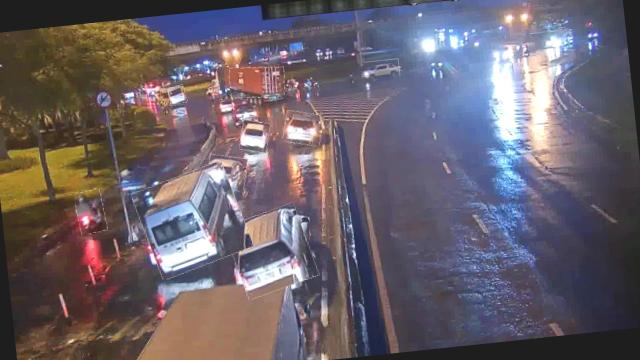Bike: (75, 189, 107, 235)
Bus: (134, 164, 250, 278), (162, 86, 187, 106)
Car: (226, 205, 316, 298), (204, 153, 248, 192), (281, 109, 324, 148), (238, 118, 272, 154), (364, 58, 399, 80), (232, 102, 259, 124)
Truck: (228, 63, 286, 100)
